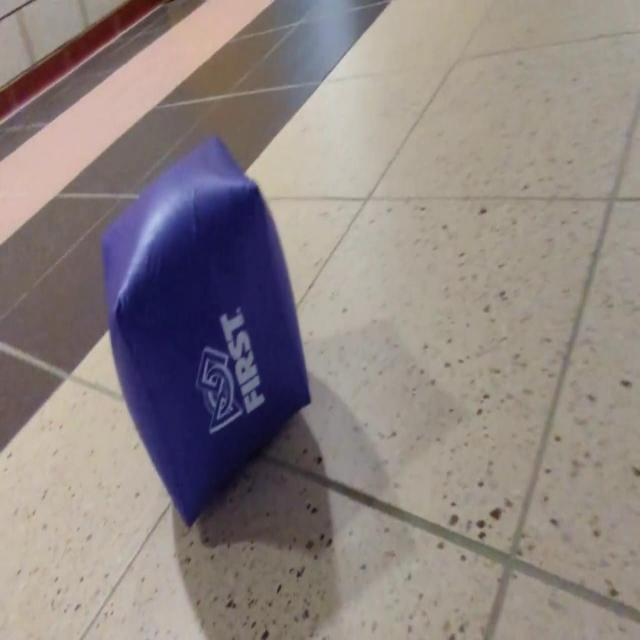frc_cube: (99, 125, 312, 527)
